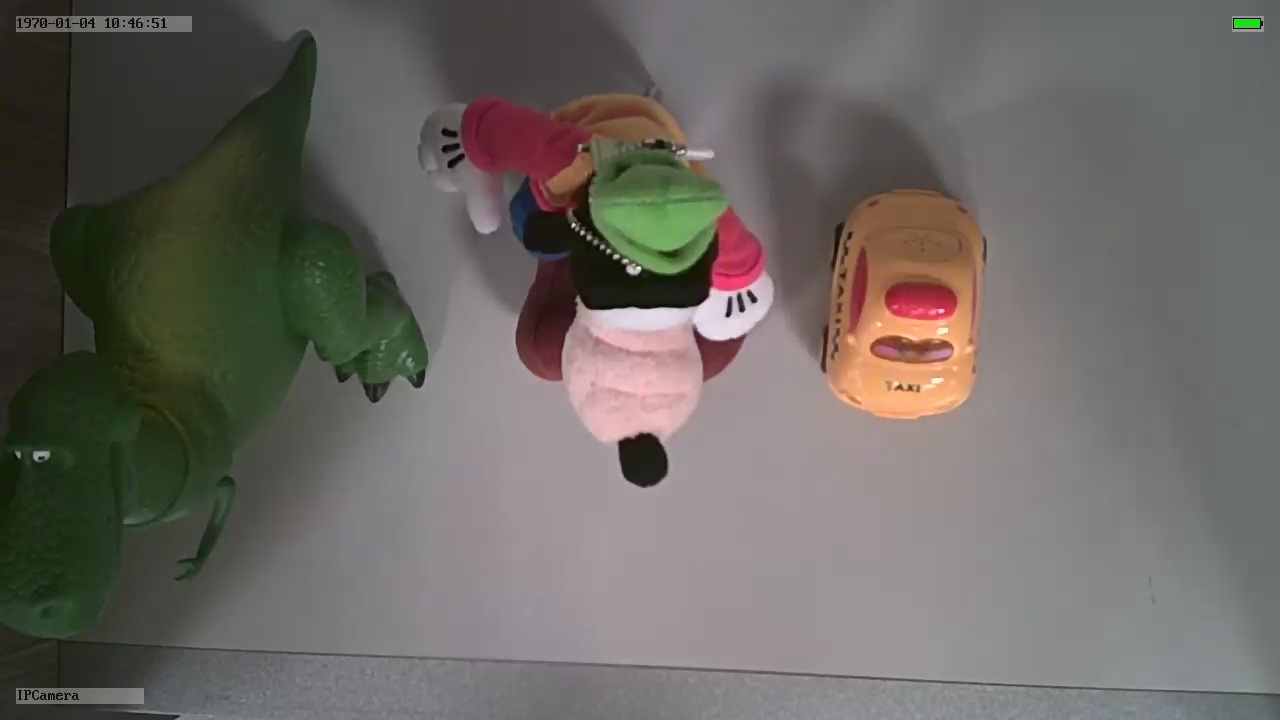car: (816, 180, 988, 423)
goofy: (413, 87, 768, 485)
rex: (1, 147, 427, 645)
